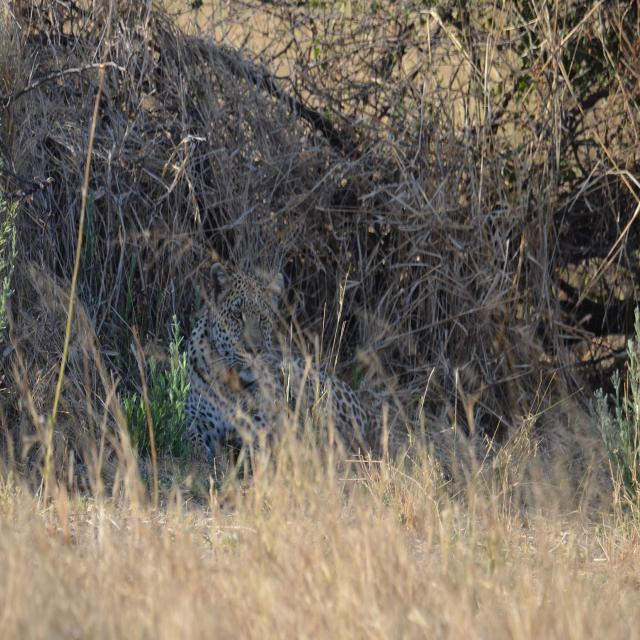Leopard: (165, 260, 392, 484)
